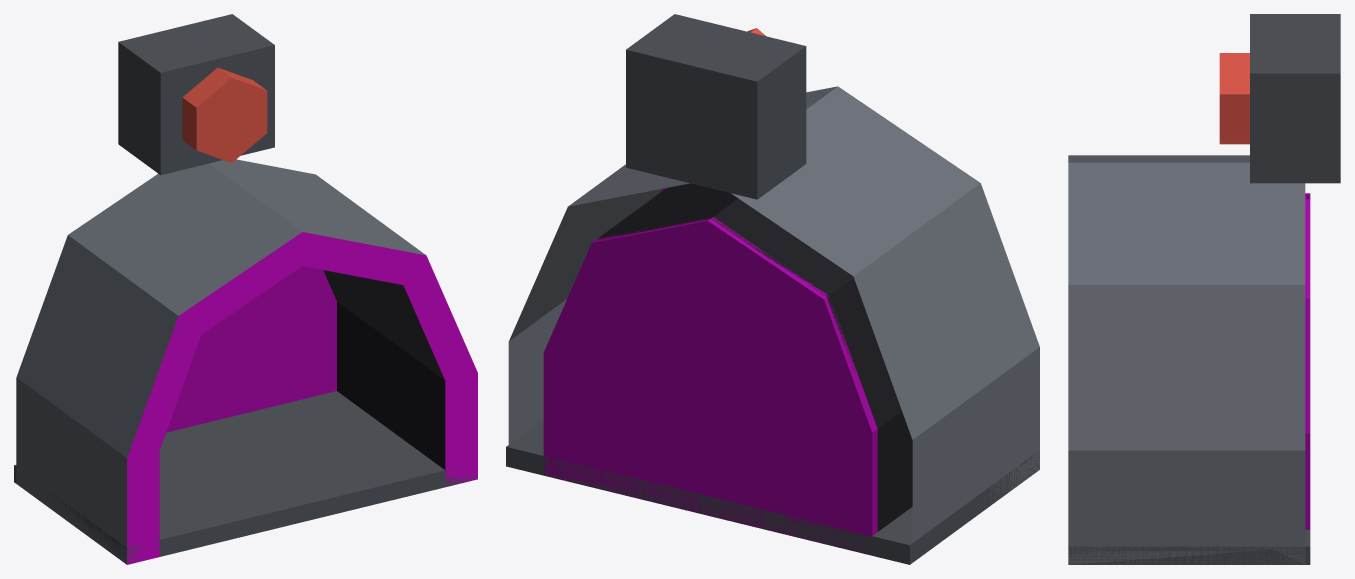
File: tube_entrance_v3_module.glb
3 views of the same model, side by side, from view 1: azimuth 30°, elevation 25°; view 2: azimuth 150°, elevation 25°; view 3: azimuth 270°, elevation 25° (orthographic). The views are drawn at different scales.
Parts seen in each view (by area): view 1: Entrance_Module; view 2: Entrance_Module; view 3: Entrance_Module.
Part boxes in pixels (x1,y1,x2,y2): Entrance_Module: (14,14,477,564); Entrance_Module: (506,14,1039,564); Entrance_Module: (1068,14,1340,564).
Size of the model in its own units: 0.86 by 0.94 by 0.54.
